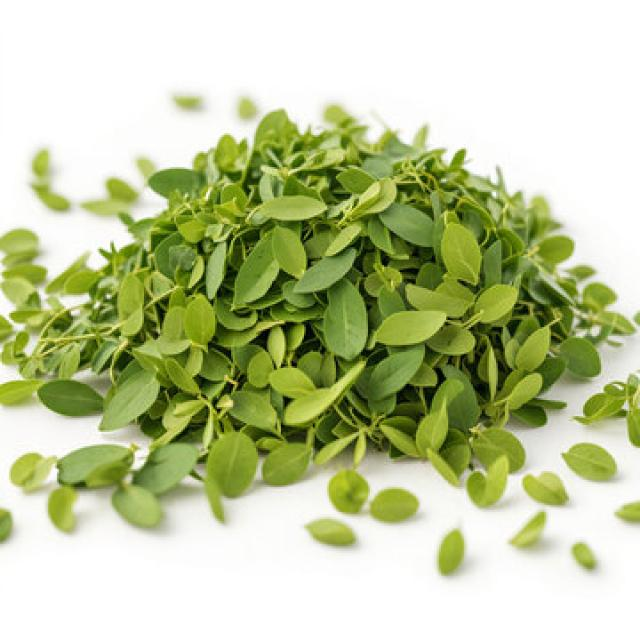Fenugreek: (108, 112, 548, 458)
